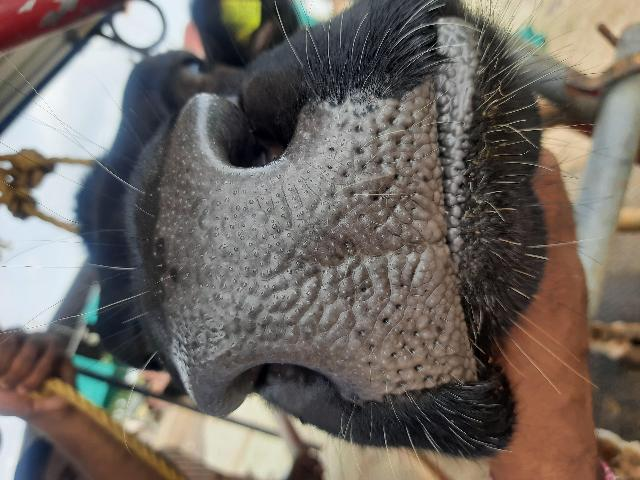Muzzle: (174, 158, 450, 360)
